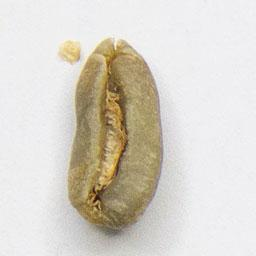longberry: (63, 34, 166, 234)
